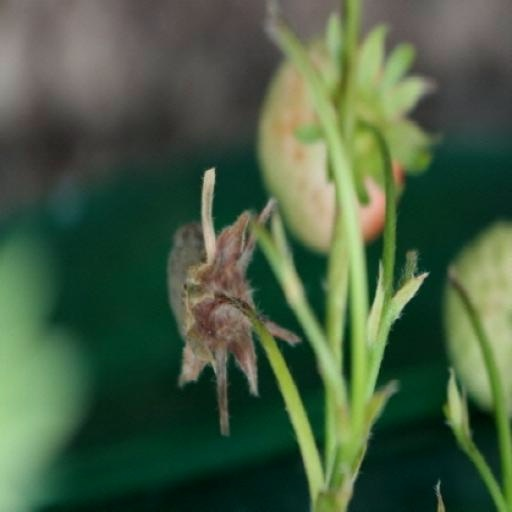Gray Mold: (210, 75, 346, 346)
